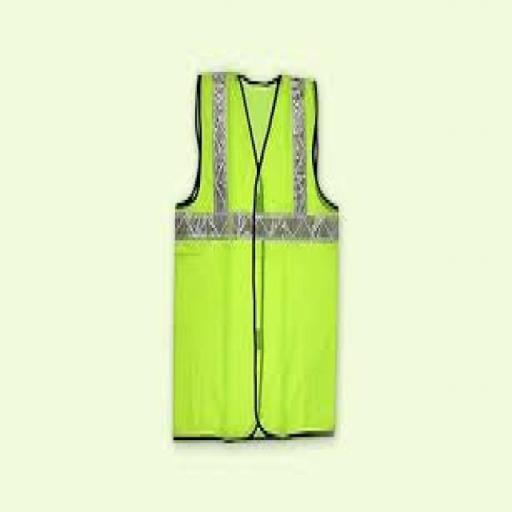vest: (153, 60, 359, 446)
